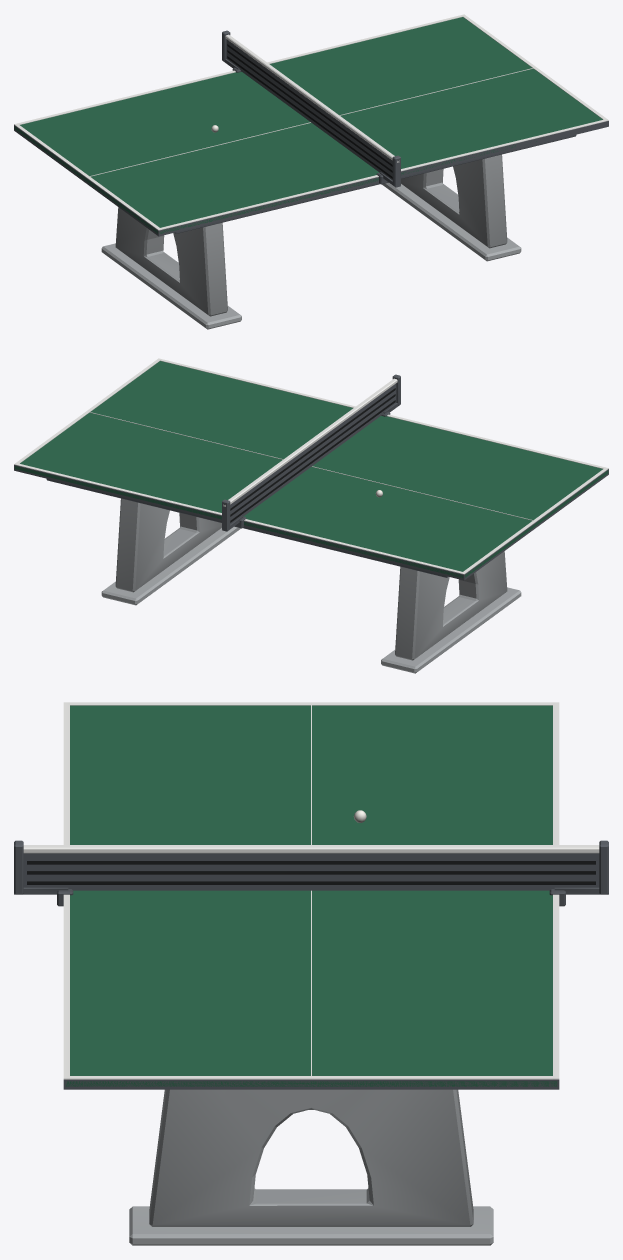
File: pingPongTable.glb
3 views of the same model, one above another, from view 1: azimuth 30°, elevation 25°; view 2: azimuth 150°, elevation 25°; view 3: azimuth 270°, elevation 25° (orthographic). The views are drawn at different scales.
Visible parts, largest first — view 1: pingPongTable; view 2: pingPongTable; view 3: pingPongTable.
Part boxes in pixels (bbox=[...]): pingPongTable: bbox=[14, 14, 608, 329]; pingPongTable: bbox=[14, 358, 608, 673]; pingPongTable: bbox=[14, 702, 608, 1245].
Bounding box in the file's own units: 2.74 × 0.925 × 1.83.
